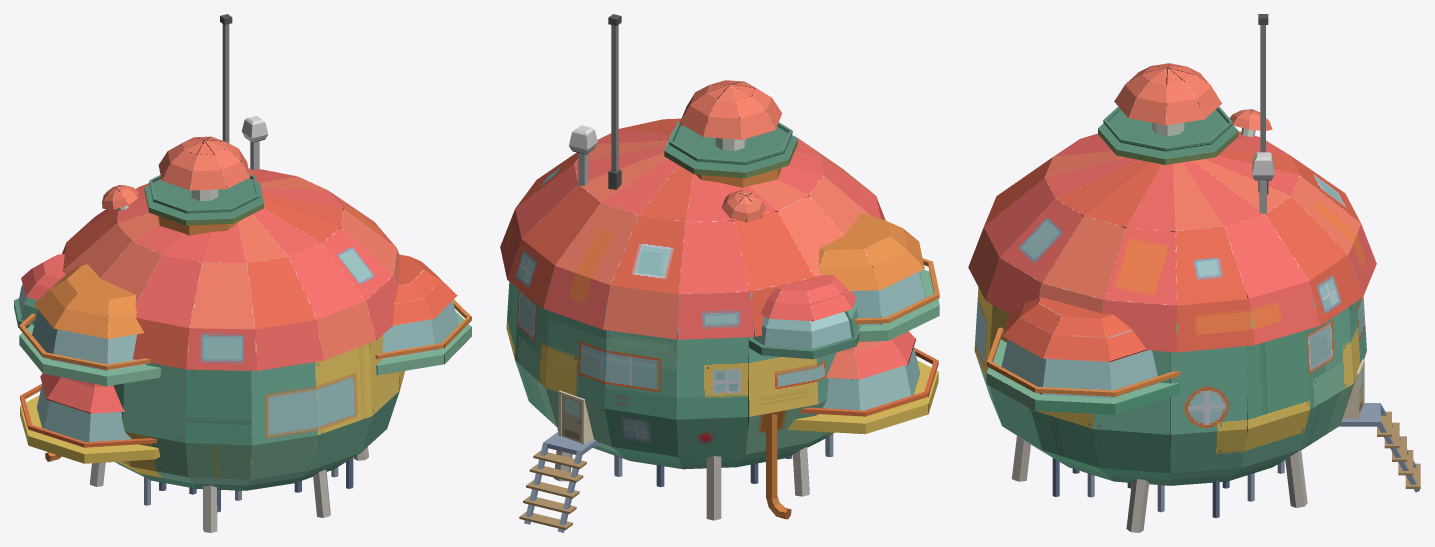
The model's file is F.ber_house_7.gltf.
3 views of the same model, side by side, from view 1: azimuth 30°, elevation 25°; view 2: azimuth 150°, elevation 25°; view 3: azimuth 270°, elevation 25° (orthographic). The views are drawn at different scales.
Visible parts, largest first — view 1: cuboid; view 2: cuboid; view 3: cuboid.
Part boxes in pixels (bbox=[...]): cuboid: bbox=[14, 14, 471, 532]; cuboid: bbox=[500, 14, 939, 532]; cuboid: bbox=[968, 14, 1420, 532].
Size of the model in its own units: 12.78 by 13.01 by 11.32.
2 materials, 2 textured.
